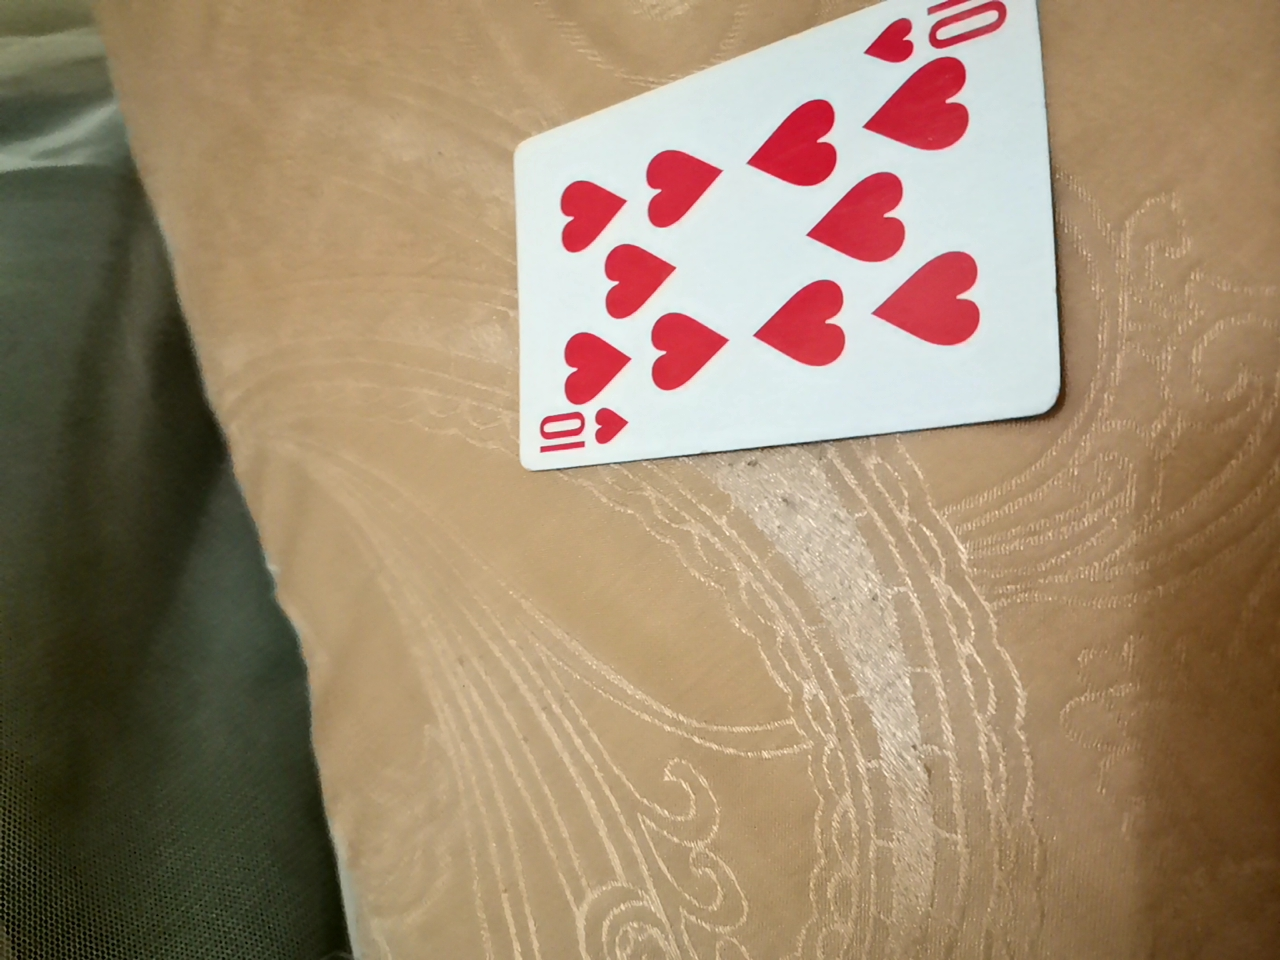hx 10: (485, 18, 1052, 497)
